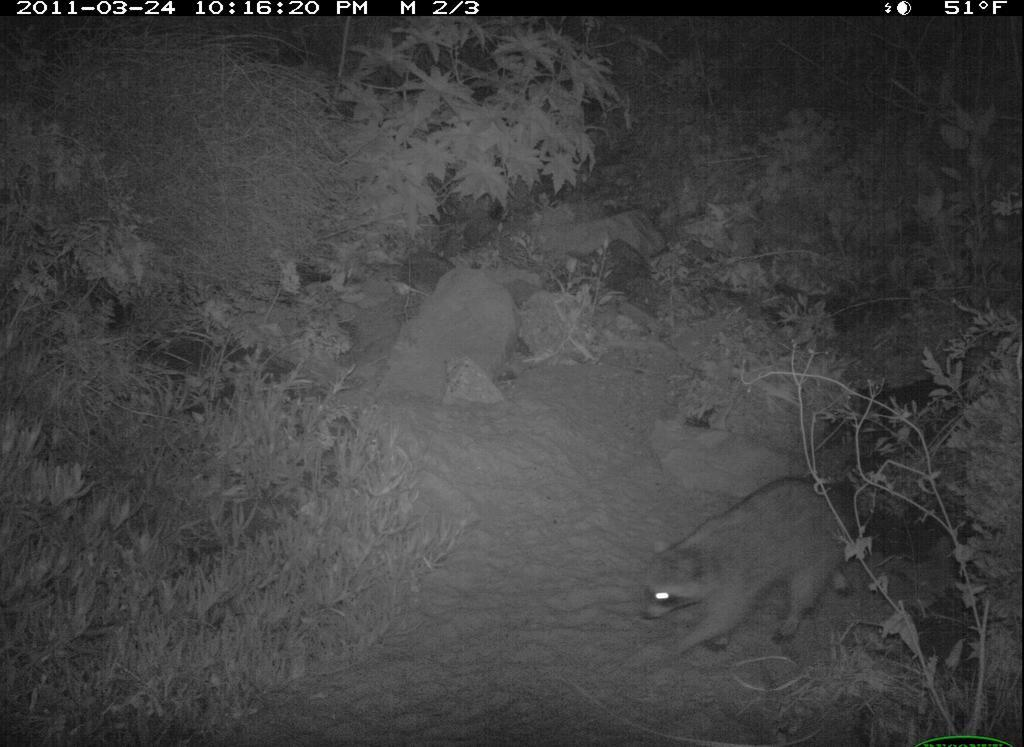raccoon: (633, 475, 870, 679)
